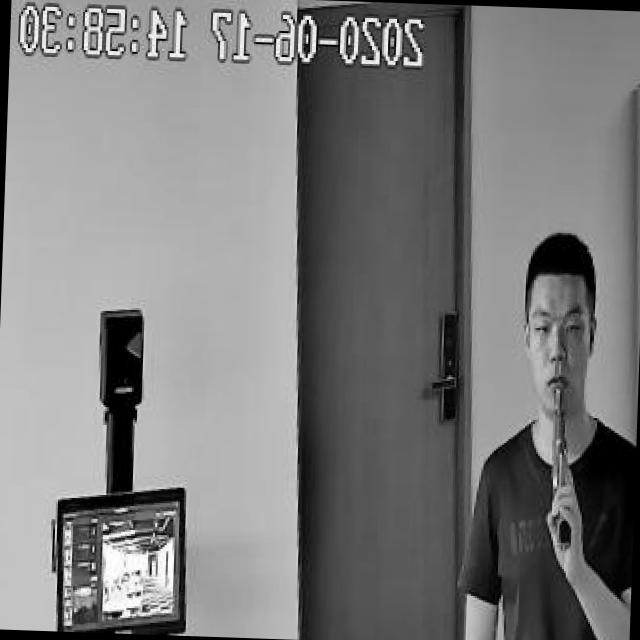Guns: (532, 375, 590, 552)
